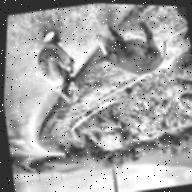boar: (88, 13, 173, 84), (171, 6, 191, 42)
